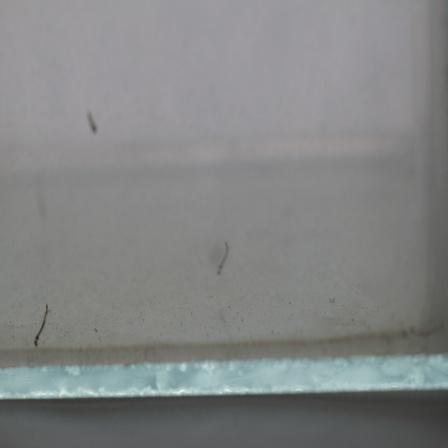Jentik-Nyamuk: (28, 300, 55, 349), (213, 239, 233, 278)
